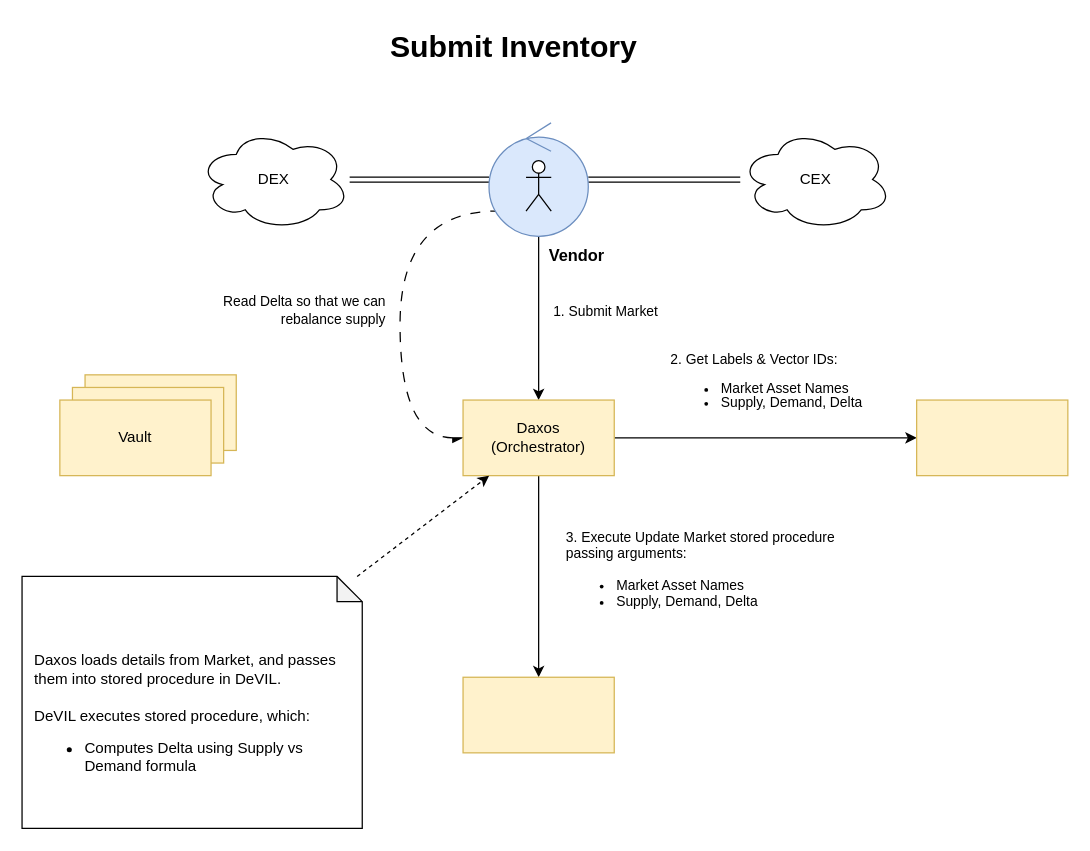
This 1090x851 diagram has some shape labels left out. Here are the shapes that lost their labels. From the top down, the centre of each, then its label:
At point (991, 437): "Market".
At point (538, 714): "DeVIL (Vector Math)".
